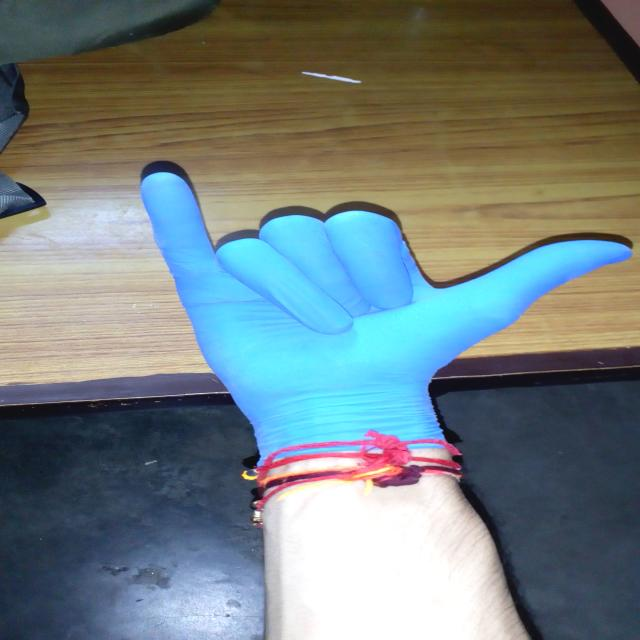glove: (128, 160, 640, 470)
